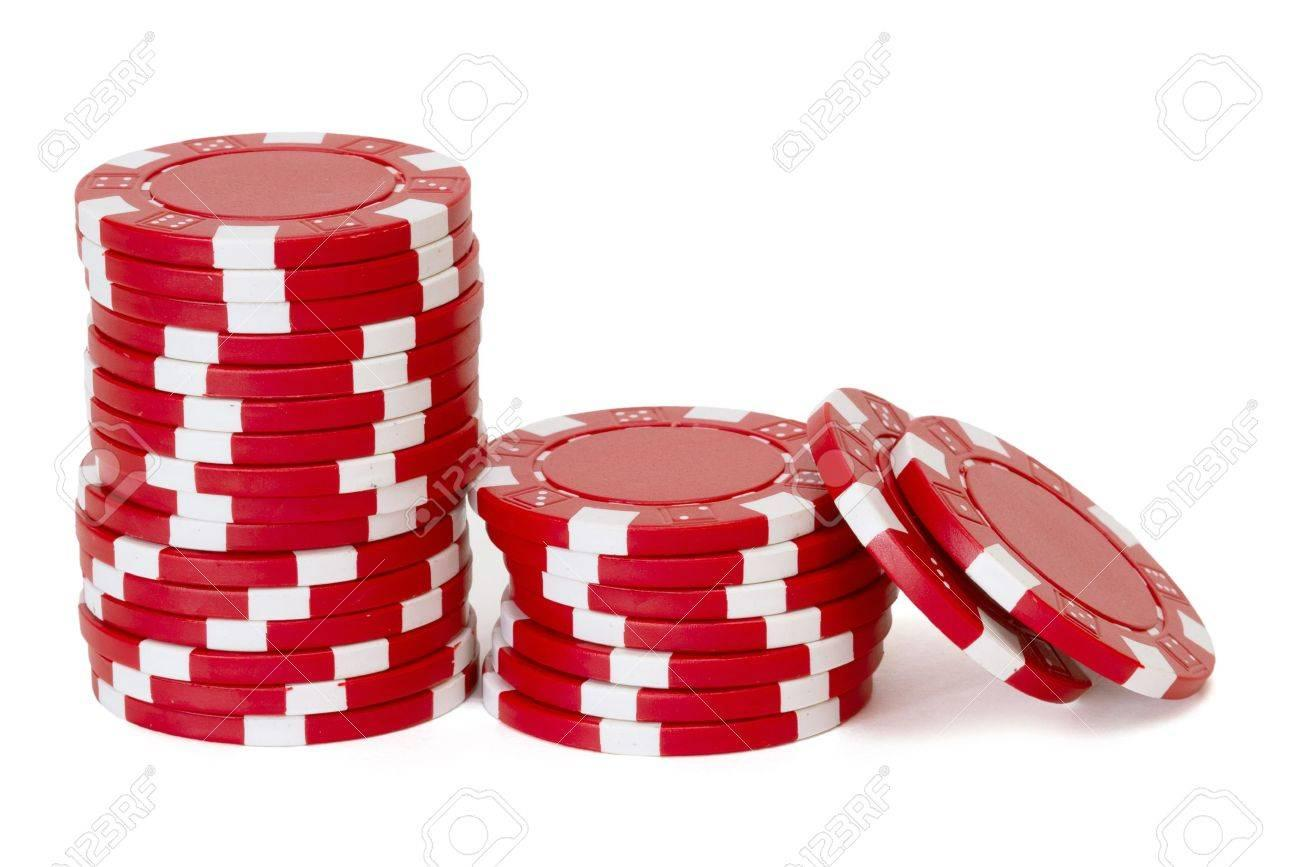chip-red: (891, 416, 1214, 698), (807, 388, 1089, 703), (475, 406, 835, 555), (76, 132, 470, 268), (500, 579, 896, 689), (89, 613, 477, 716), (490, 627, 884, 722), (86, 241, 480, 335), (500, 597, 891, 691), (81, 533, 470, 620), (81, 565, 470, 651), (79, 218, 475, 302), (91, 282, 482, 366), (91, 660, 477, 745), (89, 381, 477, 465), (79, 604, 470, 686), (482, 673, 873, 755), (91, 416, 480, 498), (76, 509, 465, 588), (86, 355, 477, 433), (503, 576, 896, 653), (89, 322, 480, 399), (508, 543, 881, 620), (488, 523, 858, 589), (79, 485, 419, 551), (129, 465, 465, 523), (81, 434, 112, 480)
